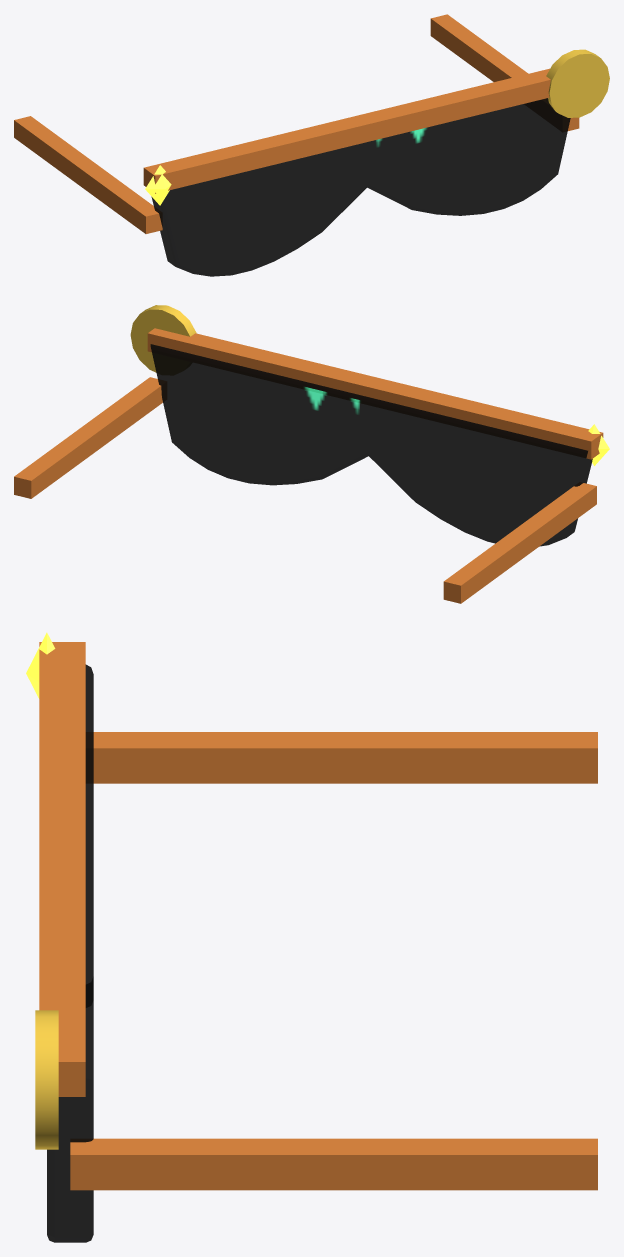
File: gl_eqtz3.glb
The picture shows the model from 3 angles, top to bottom: view 1: azimuth 30°, elevation 25°; view 2: azimuth 150°, elevation 25°; view 3: azimuth 270°, elevation 25°; orthographic projection. The views are drawn at different scales.
Bounding box in the file's own units: 2.12 × 0.616 × 1.13.
Materials: 4 (1 with a texture image).
